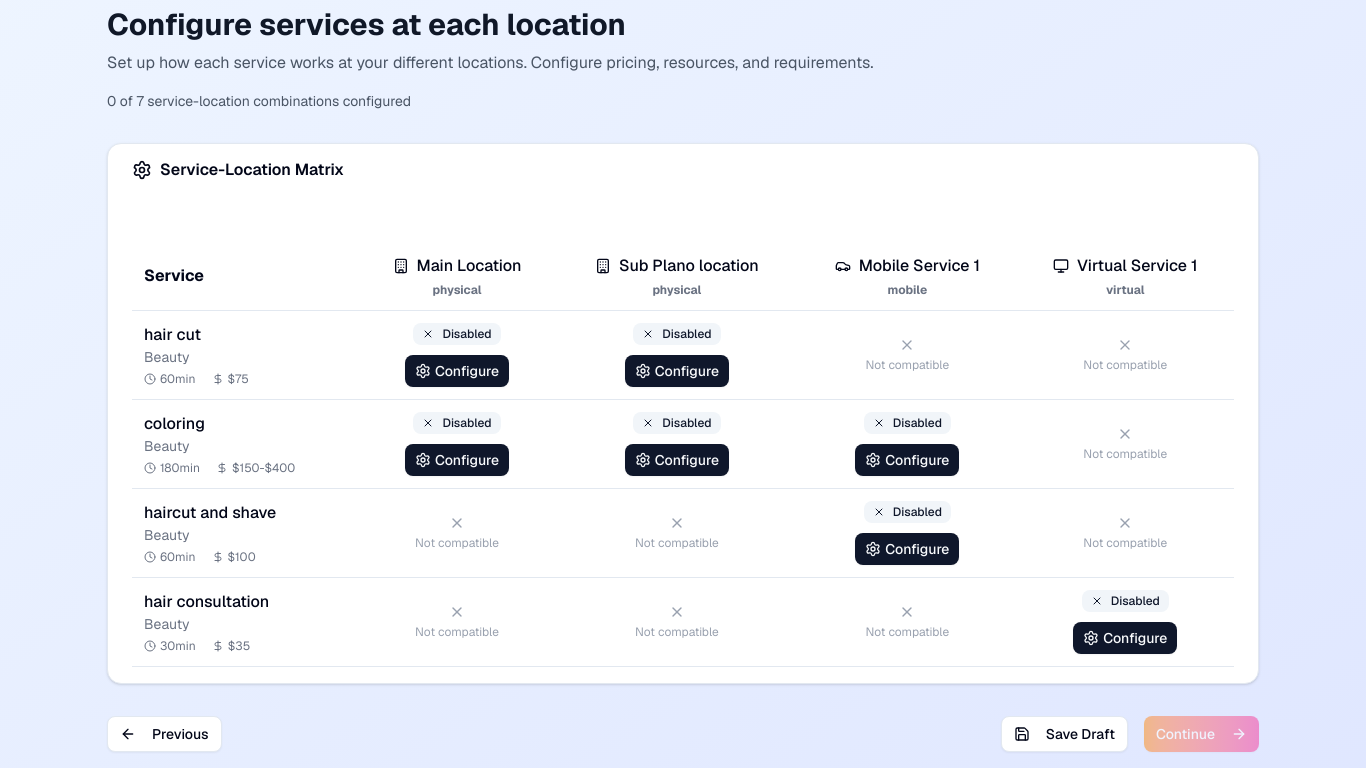
Test: ServiceLocationPage › continue is disabled until a configuration is enabled then navigates
(page scrolled)
Check: the button with test id "continue-btn" is disabled, box [1144,716,1259,752]
Enable one config: pick service that supports virtual at a virtual location
Click the button "Configure" in the row of "30" at (1125, 638), box [1073,622,1177,654]
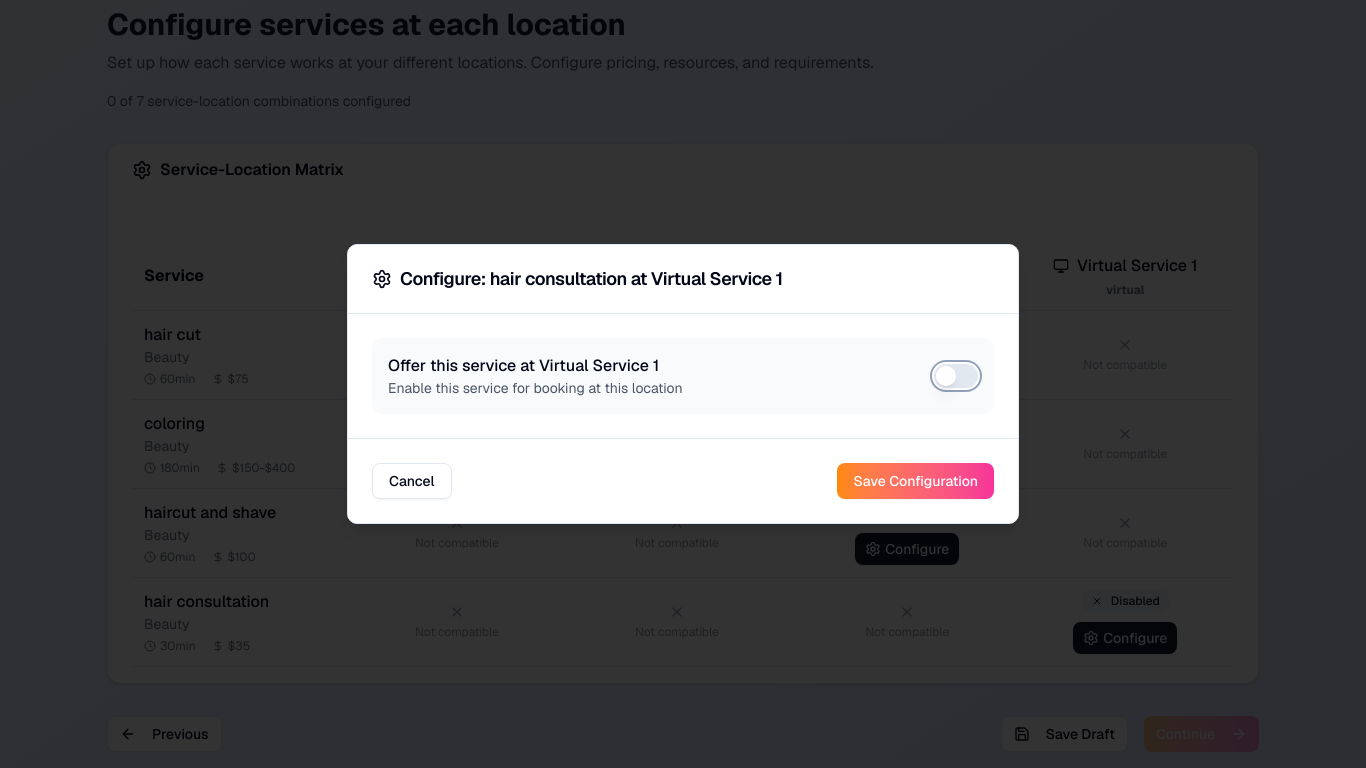
Click the switch with test id "enable-switch" at (956, 376), box [934,364,978,388]
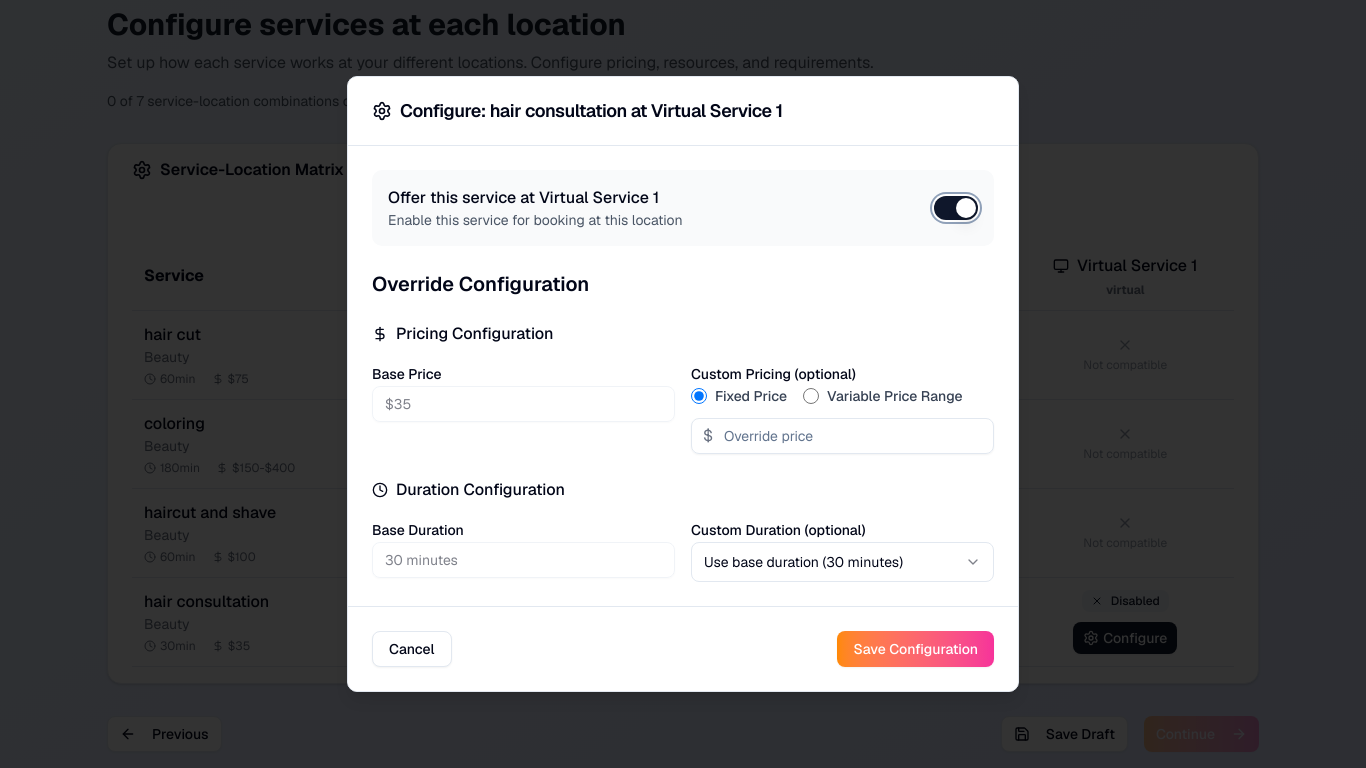
Click the button with test id "save-config-btn" at (916, 649), box [838,631,994,667]
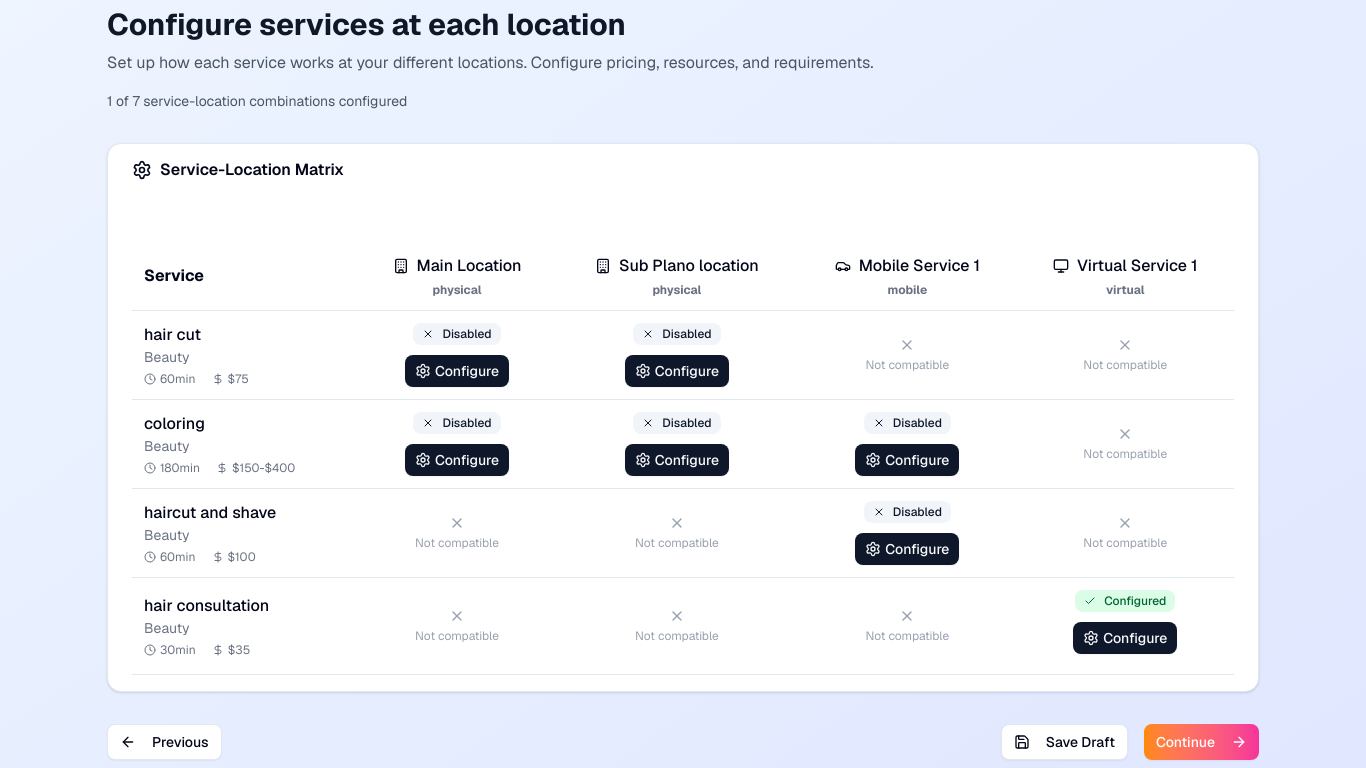
Check: the button with test id "continue-btn" is enabled, box [1144,724,1259,760]
